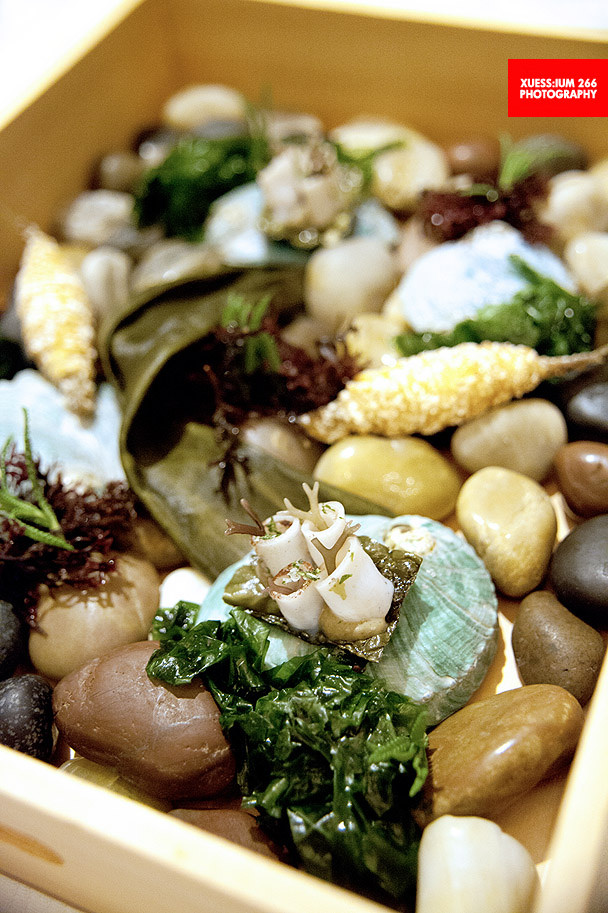chopped lettuce: (197, 633, 402, 833)
plain spaghetti: (269, 528, 376, 600)
